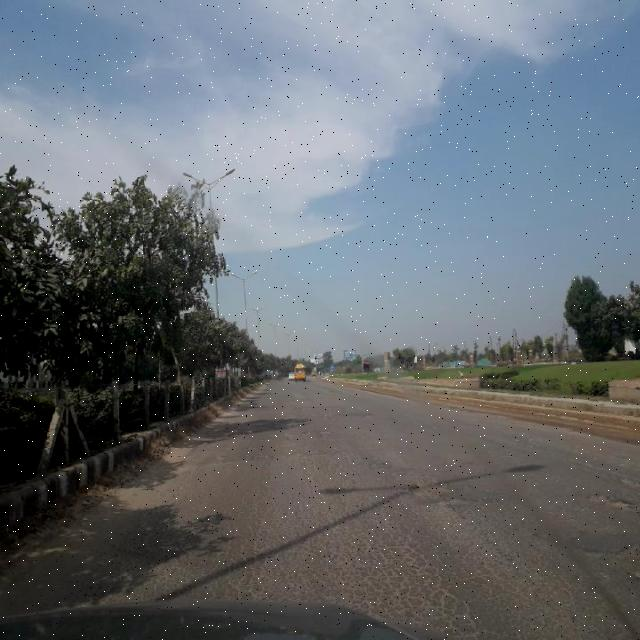D20: (89, 422, 564, 628)
D40: (265, 403, 337, 441), (403, 461, 468, 502), (570, 479, 634, 520), (577, 538, 640, 578)
